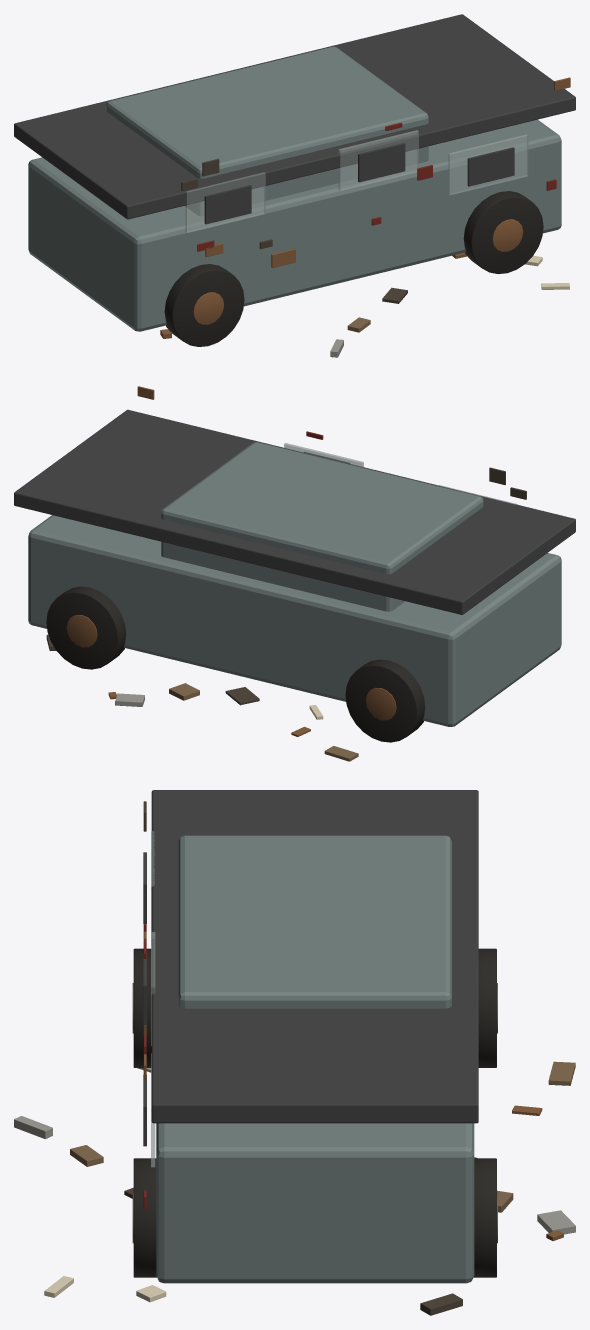
Rendered from dz_barricade_stacked_cars_premium.glb.
3 views of the same model, one above another, from view 1: azimuth 30°, elevation 25°; view 2: azimuth 150°, elevation 25°; view 3: azimuth 270°, elevation 25° (orthographic). The views are drawn at different scales.
Visible parts, largest first — view 1: vehicle_lower_body_dented, stacked_car_shadow_plate, vehicle_cabin_crushed, flat_muddy_tire_-1.365_-0.91, flat_muddy_tire_1.365_-0.91, broken_window_1.25, broken_window_-1.15, broken_window_0.25, window_hole_shadow_-1.15, window_hole_shadow_0.25, window_hole_shadow_1.25, rusted_wheel_hub_1.365_-0.91 (+1 smaller); view 2: vehicle_lower_body_dented, stacked_car_shadow_plate, vehicle_cabin_crushed, flat_muddy_tire_1.365_0.91, flat_muddy_tire_-1.365_0.91, rusted_wheel_hub_-1.365_0.91, rusted_wheel_hub_1.365_0.91, broken_window_0.25; view 3: stacked_car_shadow_plate, vehicle_lower_body_dented, vehicle_cabin_crushed, flat_muddy_tire_1.365_-0.91, flat_muddy_tire_1.365_0.91, flat_muddy_tire_-1.365_0.91, flat_muddy_tire_-1.365_-0.91, vehicle_debris_05.
Part boxes in pixels (x1,y1,x2,y2): vehicle_lower_body_dented: (28,119,561,331); stacked_car_shadow_plate: (14,14,575,219); vehicle_cabin_crushed: (106,46,428,215); flat_muddy_tire_-1.365_-0.91: (164,264,244,346); flat_muddy_tire_1.365_-0.91: (463,191,543,273); broken_window_1.25: (448,134,528,195); broken_window_-1.15: (185,172,265,232); broken_window_0.25: (338,130,418,191); window_hole_shadow_-1.15: (204,185,251,224); window_hole_shadow_0.25: (358,143,405,182); window_hole_shadow_1.25: (467,147,514,186); rusted_wheel_hub_1.365_-0.91: (492,219,523,251); vehicle_lower_body_dented: (28,515,561,726); stacked_car_shadow_plate: (14,409,575,614); vehicle_cabin_crushed: (161,442,483,611); flat_muddy_tire_1.365_0.91: (46,586,126,669); flat_muddy_tire_-1.365_0.91: (345,659,425,742); rusted_wheel_hub_-1.365_0.91: (366,687,396,720); rusted_wheel_hub_1.365_0.91: (66,615,97,647); broken_window_0.25: (284,443,363,467); stacked_car_shadow_plate: (151,790,478,1123); vehicle_lower_body_dented: (156,1123,474,1283); vehicle_cabin_crushed: (178,835,451,1008); flat_muddy_tire_1.365_-0.91: (133,1158,156,1277); flat_muddy_tire_1.365_0.91: (473,1158,496,1277); flat_muddy_tire_-1.365_0.91: (478,948,496,1067); flat_muddy_tire_-1.365_-0.91: (133,948,151,1067); vehicle_debris_05: (537,1210,575,1234).
Bounding box in the file's own units: 4.1 × 1.6 × 3.09.
